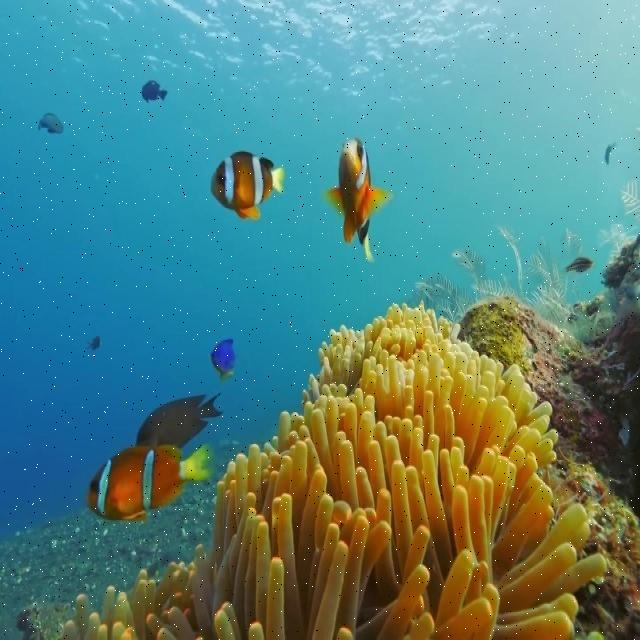fish: (87, 444, 212, 521), (321, 136, 394, 263), (137, 391, 224, 449), (211, 150, 283, 219), (210, 338, 236, 382), (141, 80, 168, 101)
reefs: (55, 299, 608, 639)
sea-floor: (459, 237, 638, 638)
